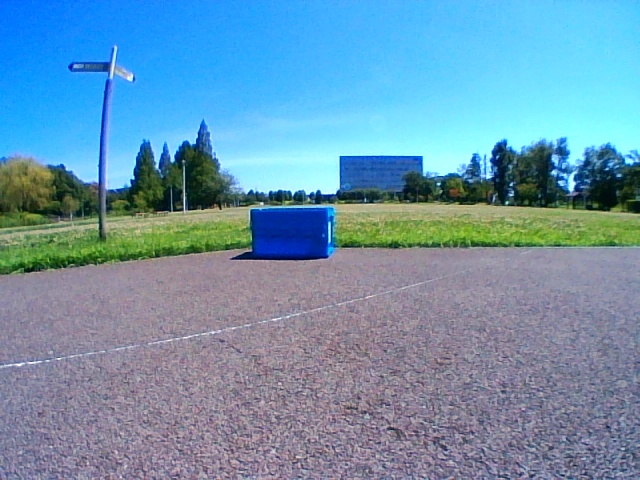blue_box: (251, 207, 334, 260)
tag: (328, 222, 330, 243)
